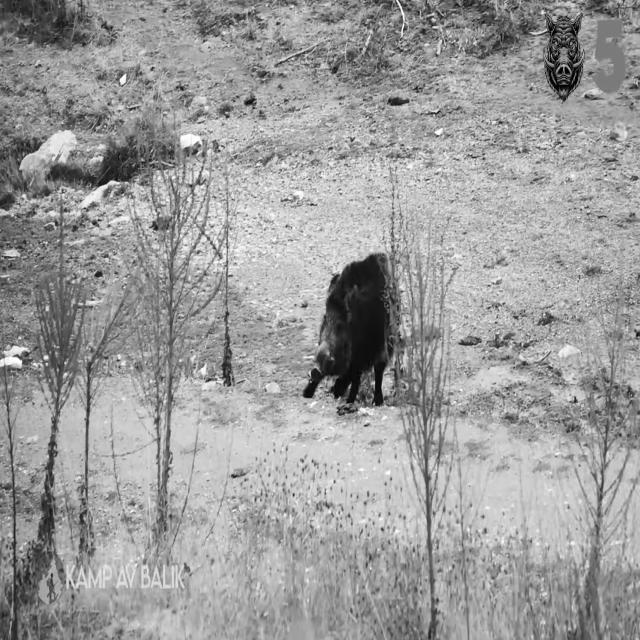boar: (303, 252, 392, 405)
